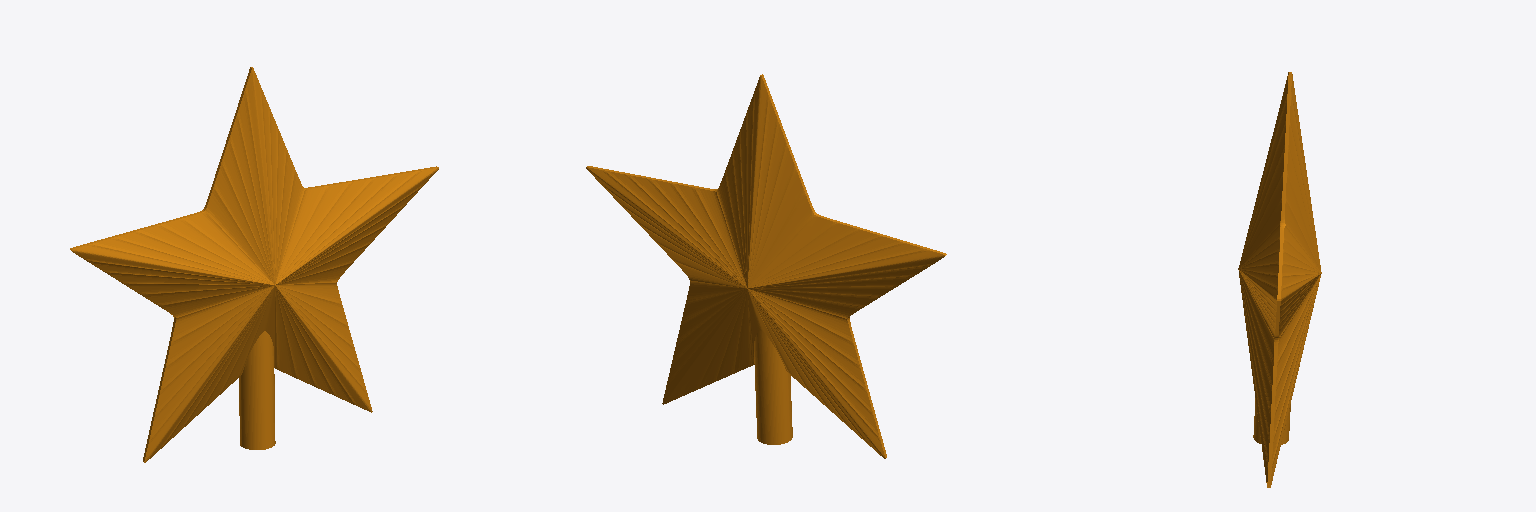
3 views of the same model, side by side, from view 1: azimuth 30°, elevation 25°; view 2: azimuth 150°, elevation 25°; view 3: azimuth 270°, elevation 25° (orthographic).
Visible parts, largest first — view 1: star; view 2: star; view 3: star.
Part boxes in pixels (left/top/right/bottom): star: left=70, top=67, right=438, bottom=462; star: left=586, top=74, right=946, bottom=458; star: left=1238, top=72, right=1321, bottom=487.
Bounding box in the file's own units: 19.73 × 19.13 × 3.91.
Materials: 1 (1 with a texture image).